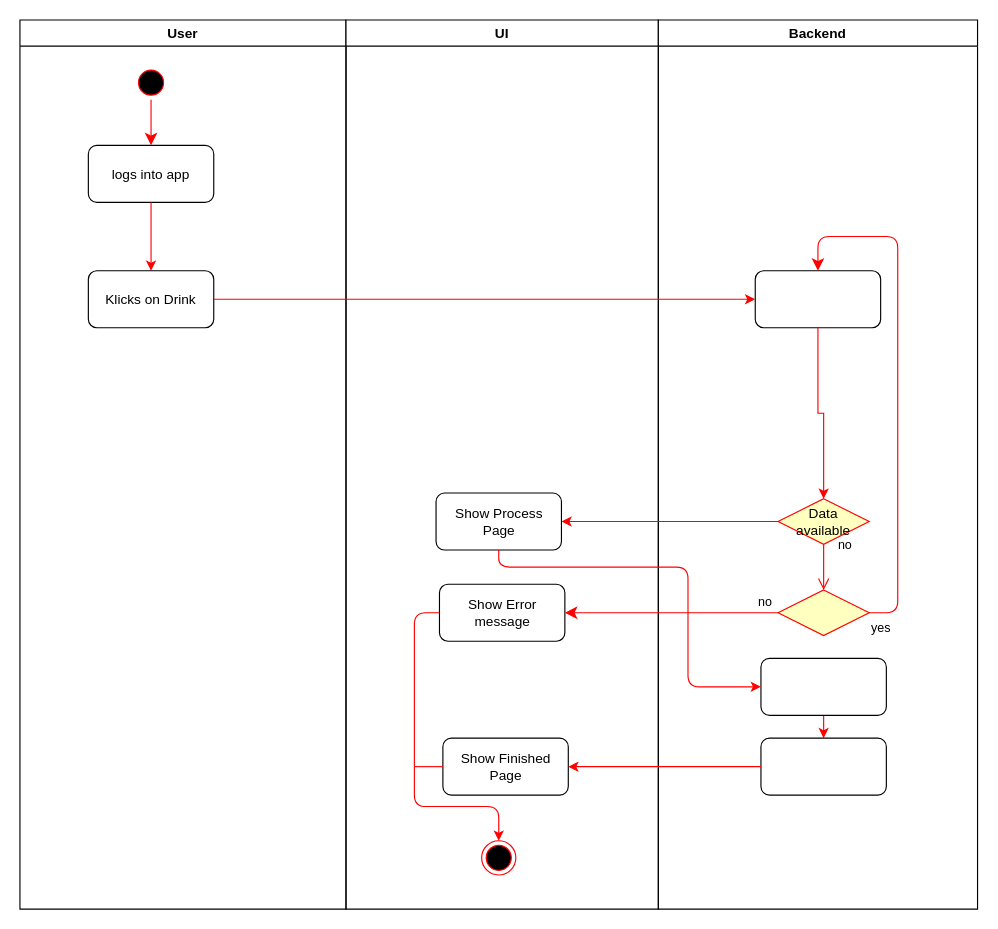
Image size: 998x929. Some labels were removed from this diagram. The centre of each missing label's shape, as x and y in pixels:
"Finish Drink" goes at [823,766].
"First try?" goes at [823,612].
"Get Data from Database" goes at [817,299].
"Send Instruction to Pumps" goes at [823,686].
